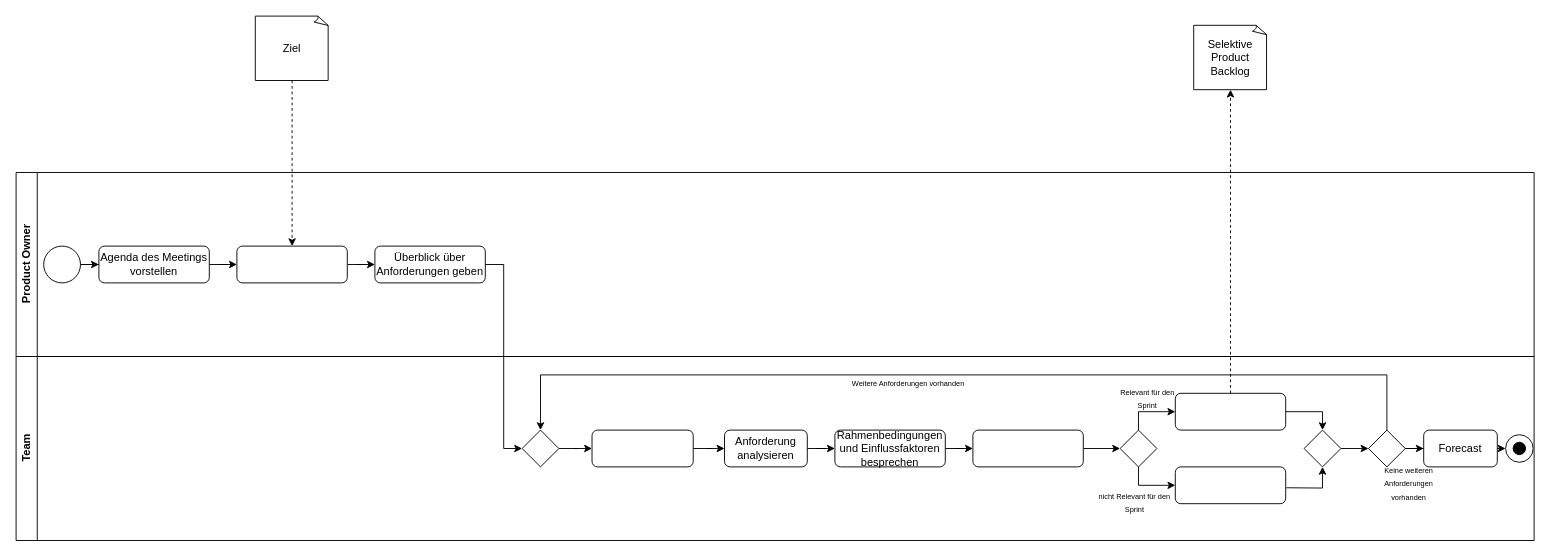
Image size: 1550x557. Some labels were removed from this diagram. The shapes that lost their labels are listed below. From the top down, each one's centre as x and y in pixels, then its label:
point (291, 264): Sprintziel vorstellen
point (1230, 411): Ins Selektive Product Backlog aufnehmen
point (642, 448): Anforderung durchgehen
point (1027, 448): Schätzung durch Planning Poker
point (1230, 485): Ins Product Backlog zurück legen
